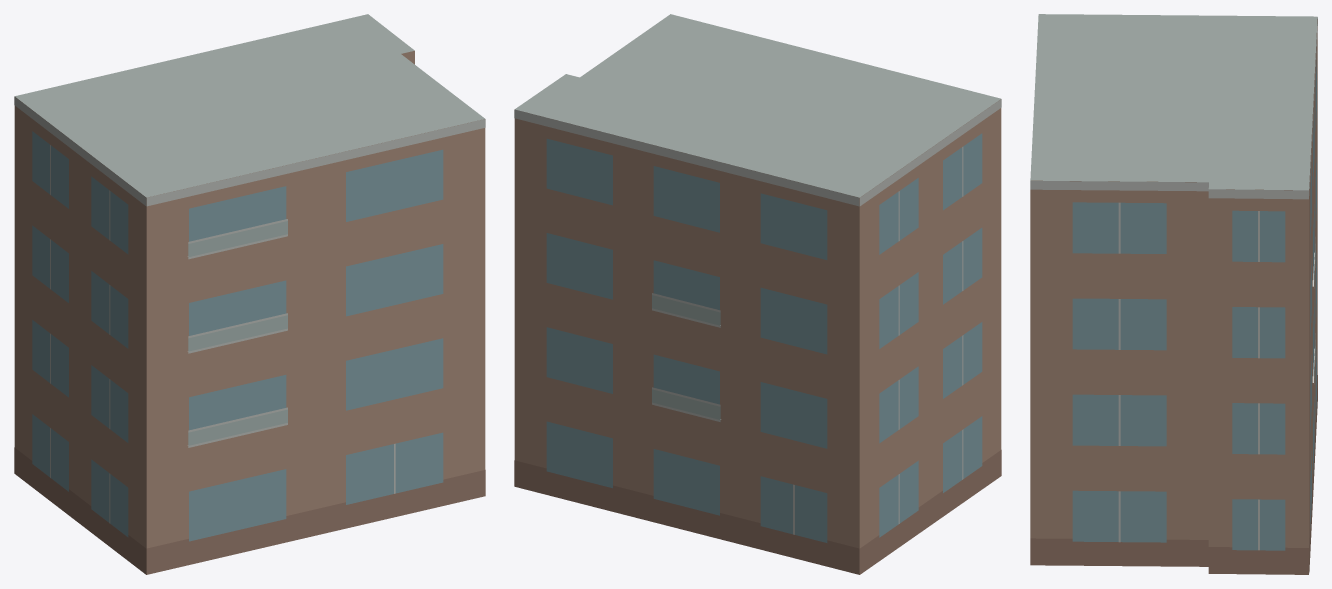
Rendered from survey-upis-32943665.glb.
3 renders of one model, left to right at view 1: azimuth 30°, elevation 25°; view 2: azimuth 150°, elevation 25°; view 3: azimuth 270°, elevation 25°, orthographic.
Visible parts, largest first — view 1: survey-upis-32943665.tmp; view 2: survey-upis-32943665.tmp; view 3: survey-upis-32943665.tmp.
Boxes of the visible parts, x1,y1,x2,y2 form: survey-upis-32943665.tmp: (14,14,485,574); survey-upis-32943665.tmp: (514,14,1001,574); survey-upis-32943665.tmp: (1030,14,1317,574).
Bounding box in the file's own units: 10.2 × 10.37 × 7.03.
